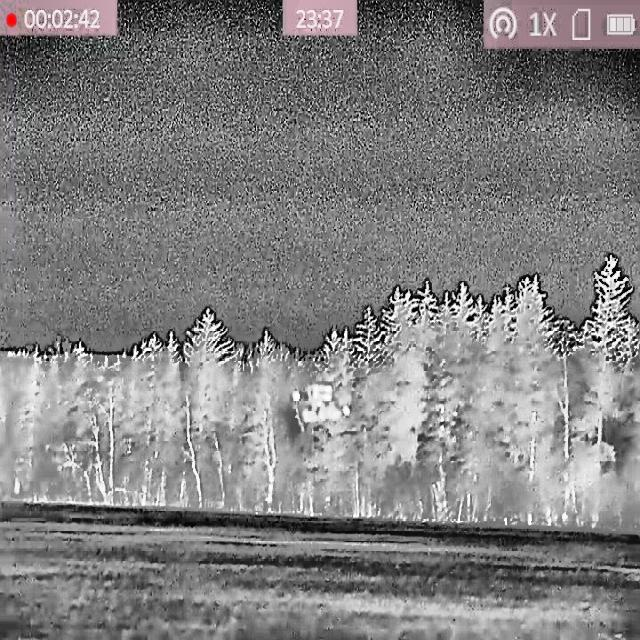drone: (293, 382, 351, 424)
